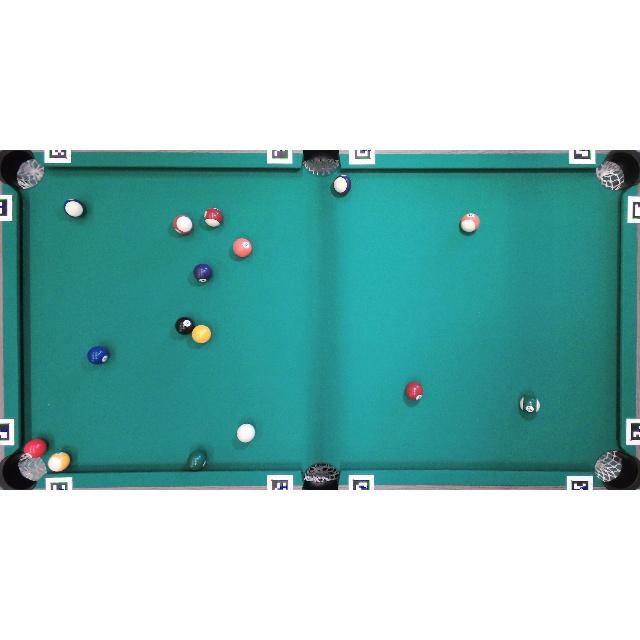cue ball: (237, 423, 255, 442)
other: (23, 438, 48, 459), (187, 450, 208, 471), (48, 452, 70, 472), (332, 174, 351, 196), (460, 212, 480, 232), (192, 324, 212, 344), (520, 394, 540, 414), (87, 346, 109, 364), (175, 316, 195, 335), (204, 208, 223, 228), (233, 238, 252, 257), (194, 263, 212, 283), (174, 215, 192, 235), (64, 199, 84, 217), (405, 382, 423, 401)
